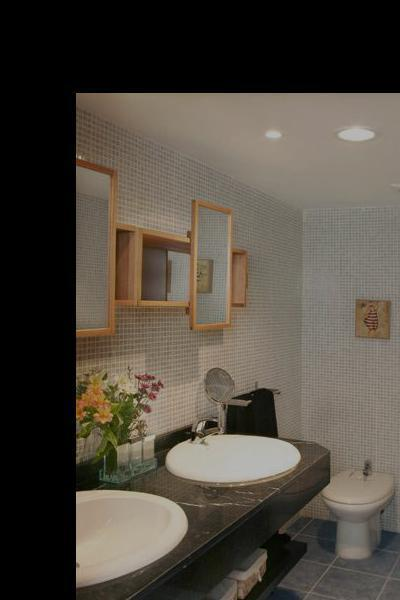Lavamanos: (77, 488, 189, 600), (171, 413, 309, 488)
Otro Obstaculo: (327, 465, 400, 561)
